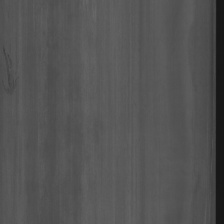water_spot: (1, 40, 20, 94)
